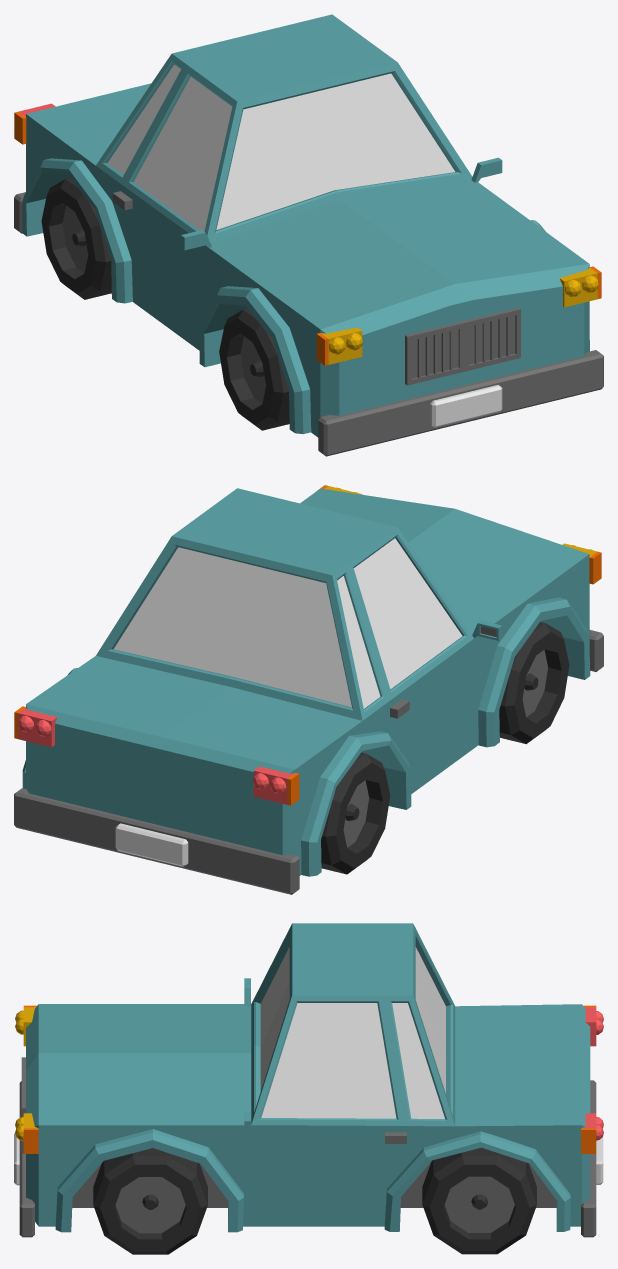
The model's file is Car A.fbx.
The picture shows the model from 3 angles, top to bottom: view 1: azimuth 30°, elevation 25°; view 2: azimuth 150°, elevation 25°; view 3: azimuth 270°, elevation 25°; orthographic projection. The views are drawn at different scales.
Visible parts, largest first — view 1: Car A; view 2: Car A; view 3: Car A.
Part boxes in pixels (left/top/right/bottom): Car A: left=14, top=14, right=603, bottom=456; Car A: left=14, top=485, right=603, bottom=894; Car A: left=14, top=923, right=603, bottom=1254.
Size of the model in its own units: 167 by 126 by 291.
